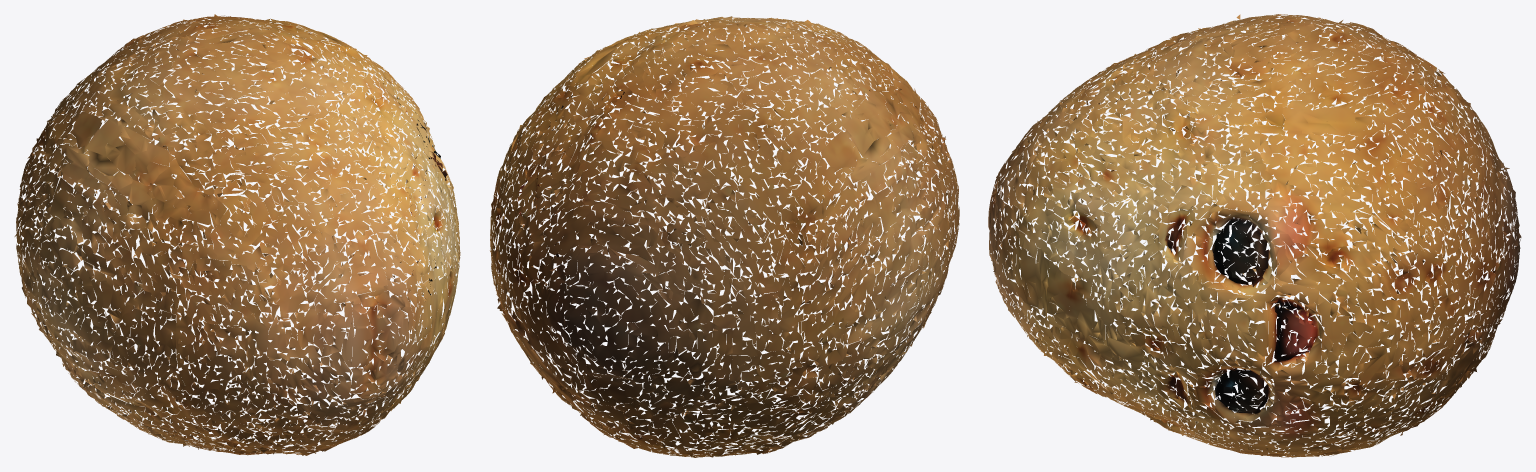
File: veg_potato.glb
3 renders of one model, left to right at view 1: azimuth 30°, elevation 25°; view 2: azimuth 150°, elevation 25°; view 3: azimuth 270°, elevation 25°, orthographic. The views are drawn at different scales.
Visible parts, largest first — view 1: mesh.obj; view 2: mesh.obj; view 3: mesh.obj.
Boxes of the visible parts, x1,y1,x2,y2 form: mesh.obj: [14, 14, 460, 455]; mesh.obj: [490, 16, 959, 457]; mesh.obj: [988, 14, 1521, 457].
Bounding box in the file's own units: 0.7784 × 0.7638 × 0.9224.
1 material, 1 textured.
